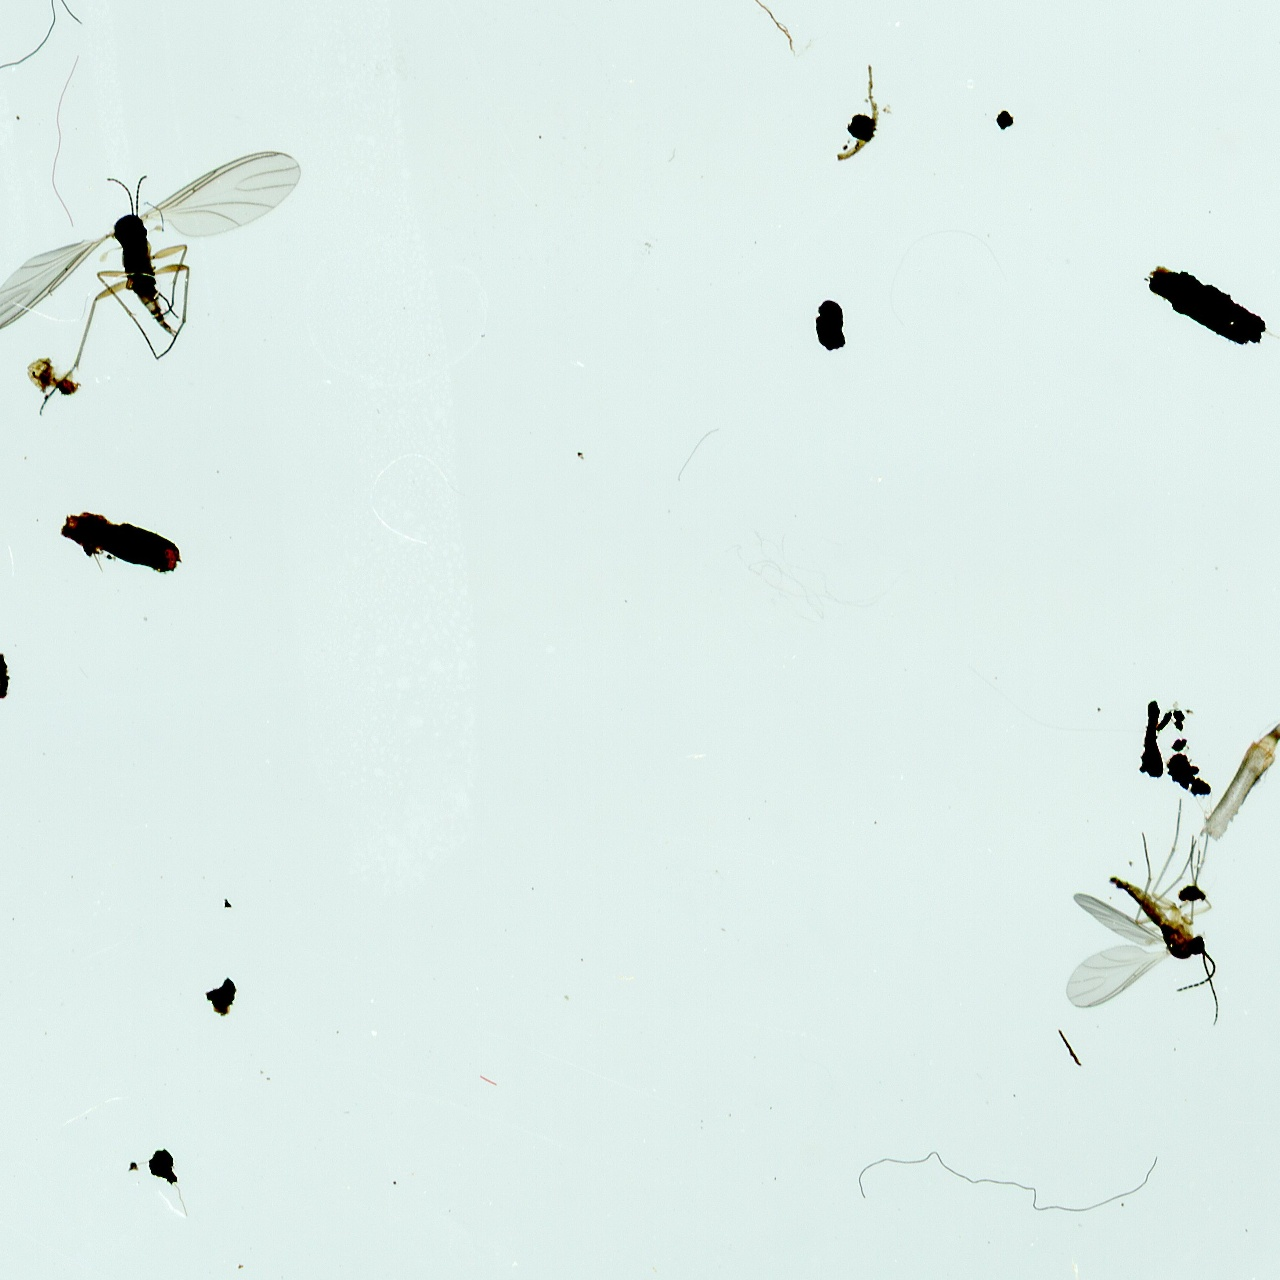arthropod: (0, 94, 359, 434), (1058, 790, 1228, 1030)
